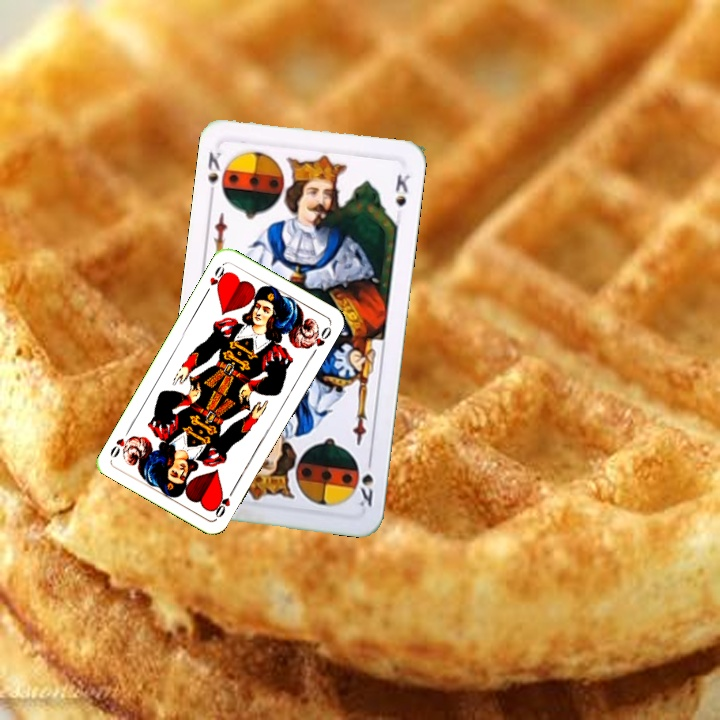HO: (201, 260, 230, 297), (210, 484, 237, 520)
SK: (355, 452, 376, 511), (203, 147, 224, 201)
